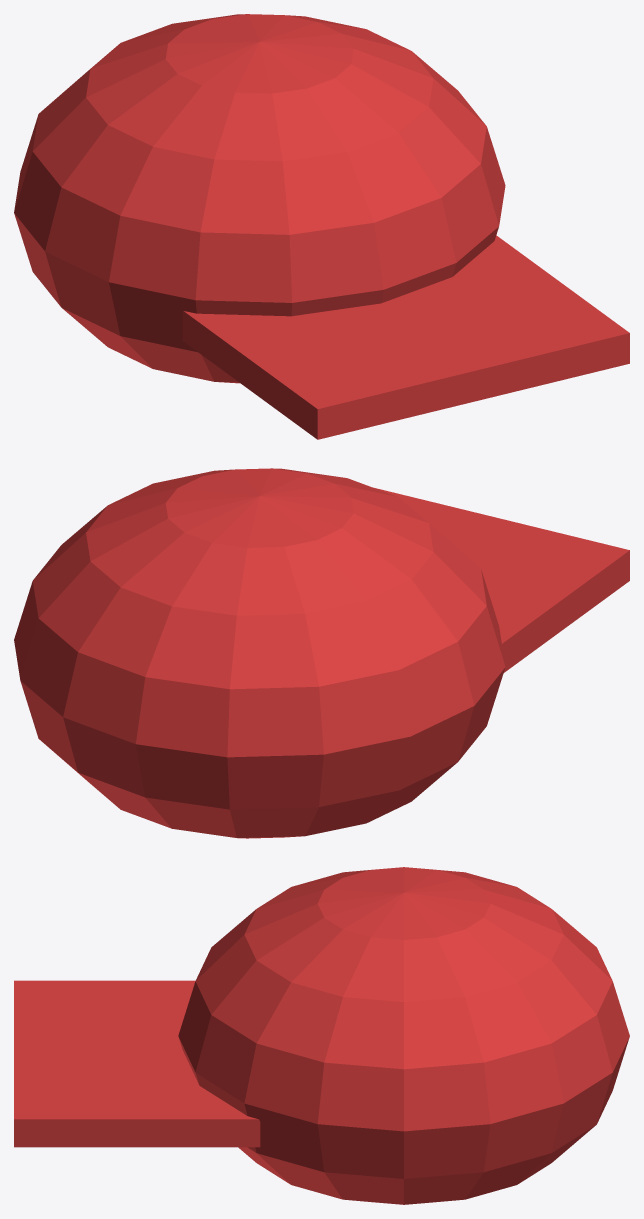
File: c_cap.glb
3 renders of one model, top to bottom at view 1: azimuth 30°, elevation 25°; view 2: azimuth 150°, elevation 25°; view 3: azimuth 270°, elevation 25°, orthographic. The views are drawn at different scales.
Visible parts, largest first — view 1: c_cap; view 2: c_cap; view 3: c_cap.
Boxes of the visible parts, x1,y1,x2,y2 form: c_cap: (14, 14, 629, 439); c_cap: (14, 468, 629, 838); c_cap: (14, 867, 629, 1204).
Bounding box in the file's own units: 0.22 × 0.154 × 0.3.
